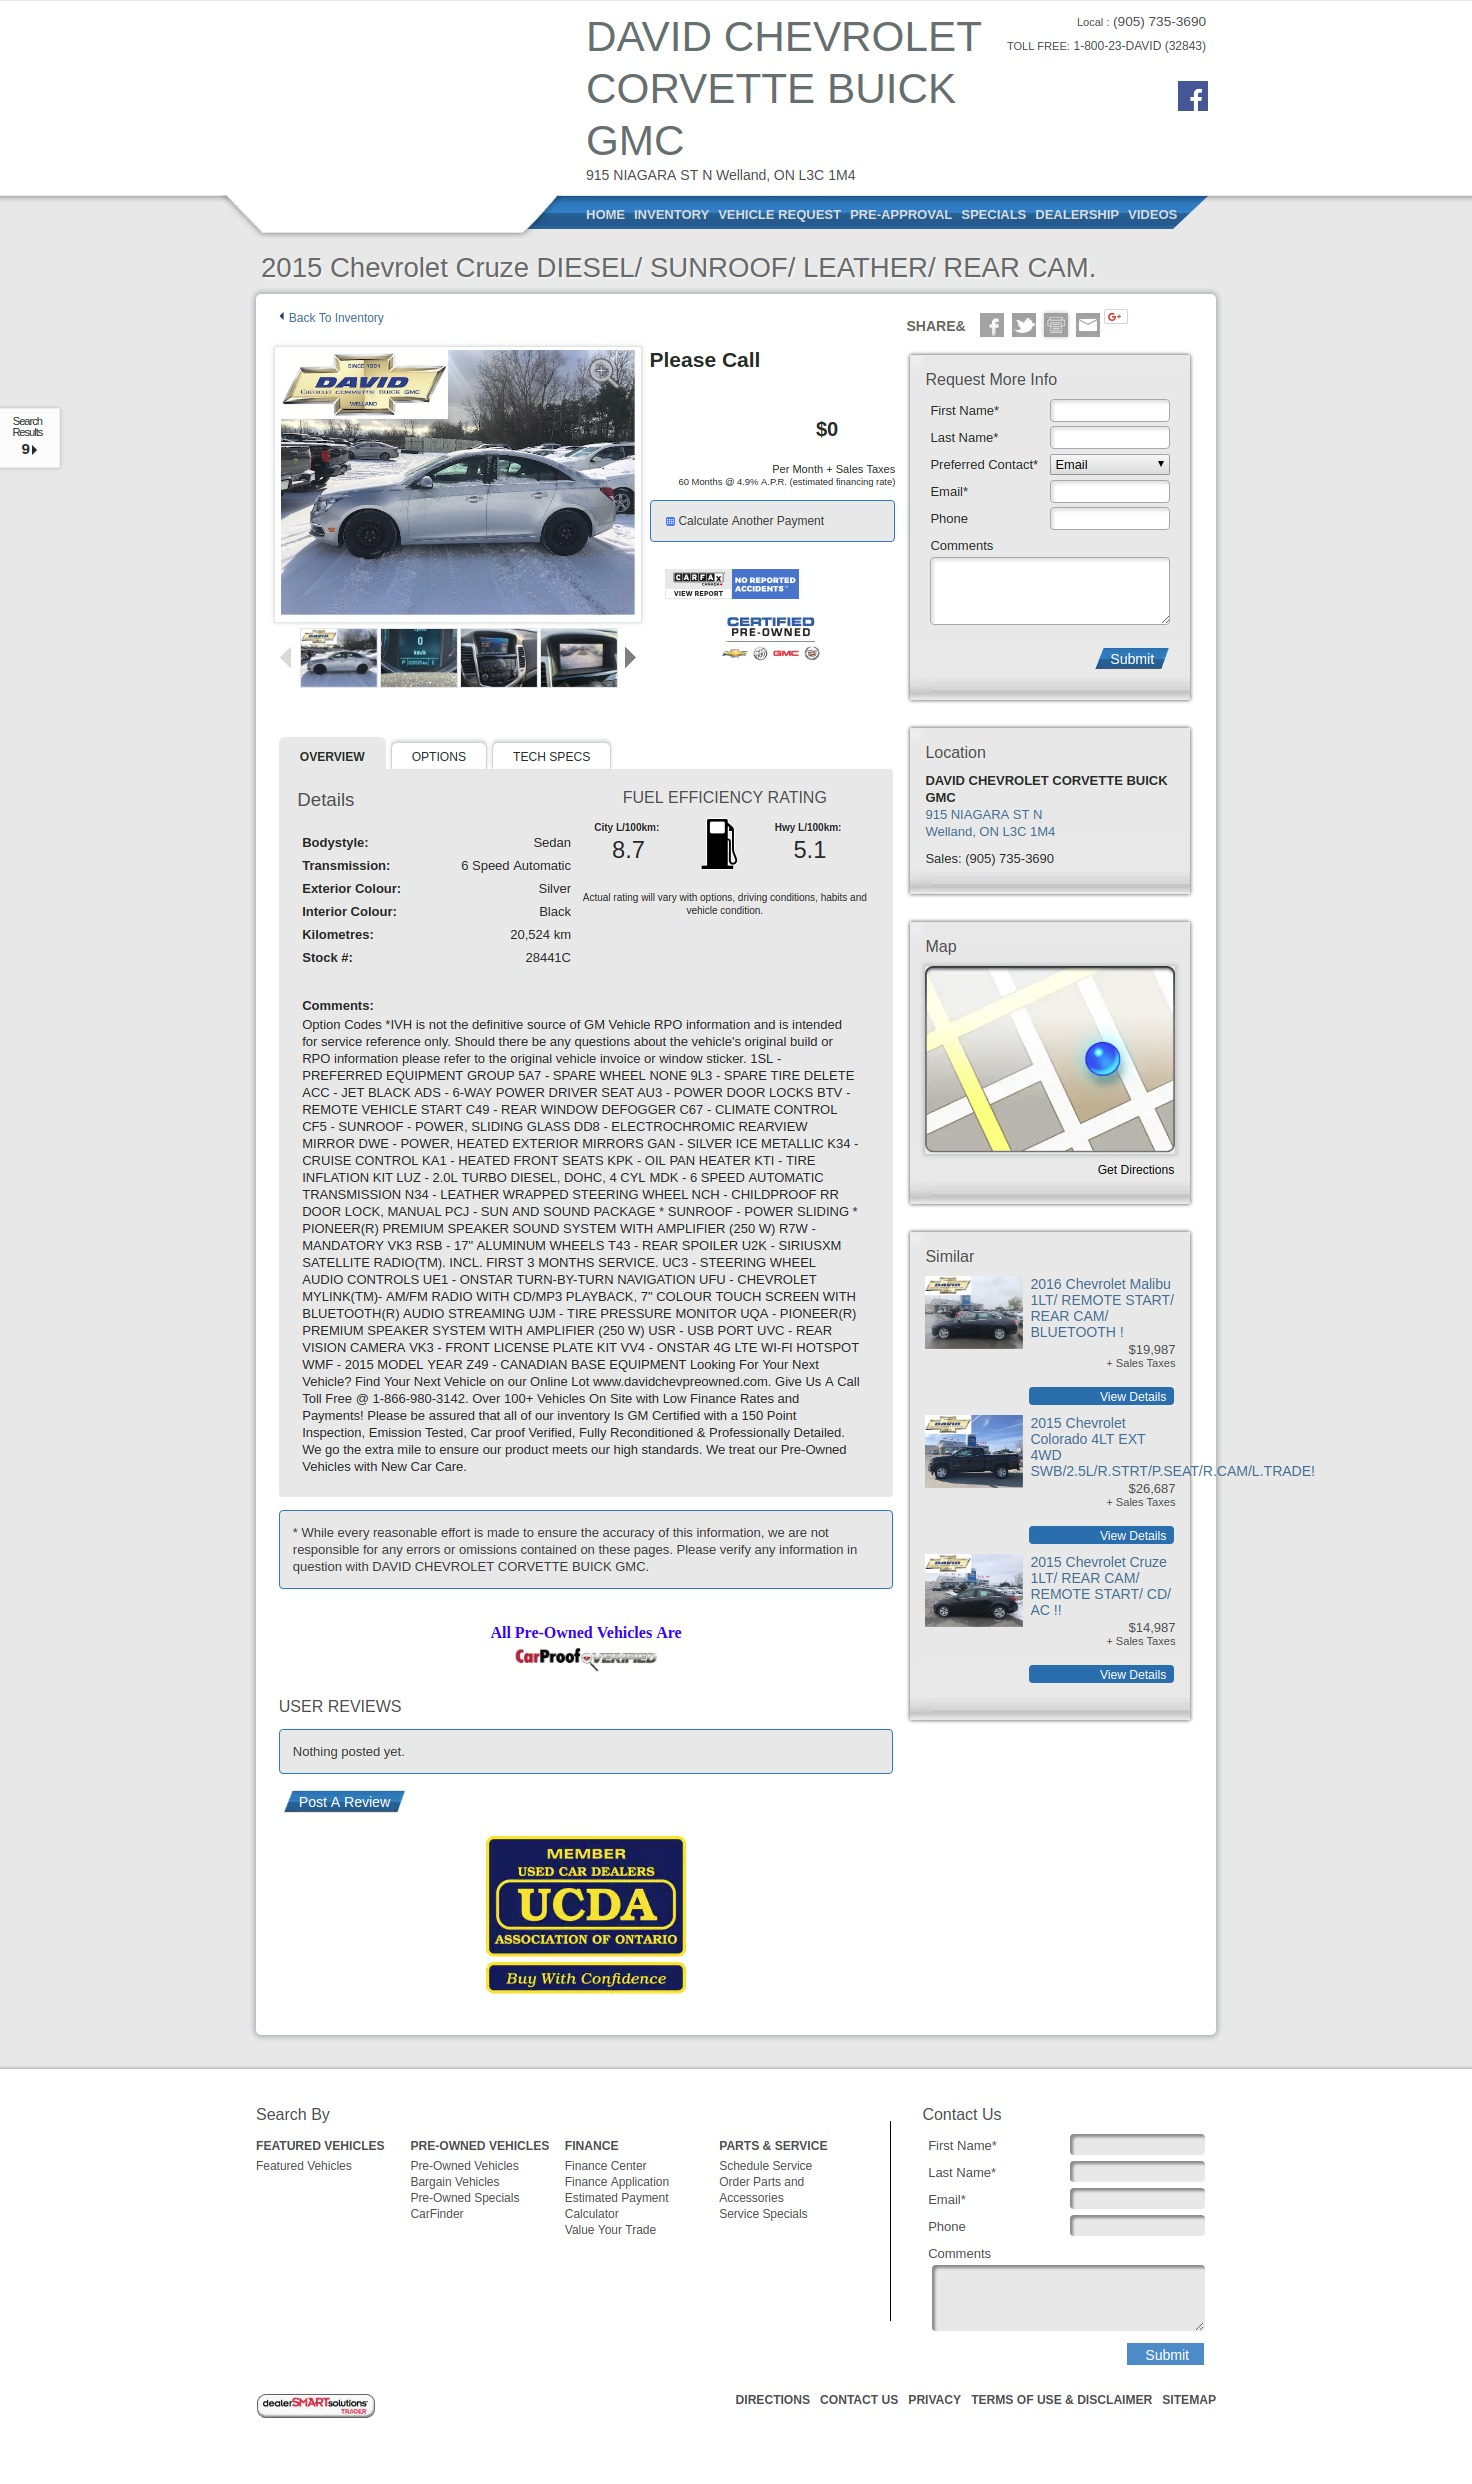car: (626, 646, 638, 671)
